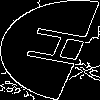H: (24, 25, 100, 72)
